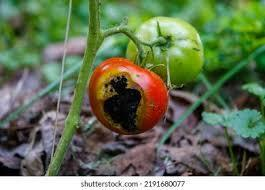tomato late blight: (90, 58, 170, 137)
